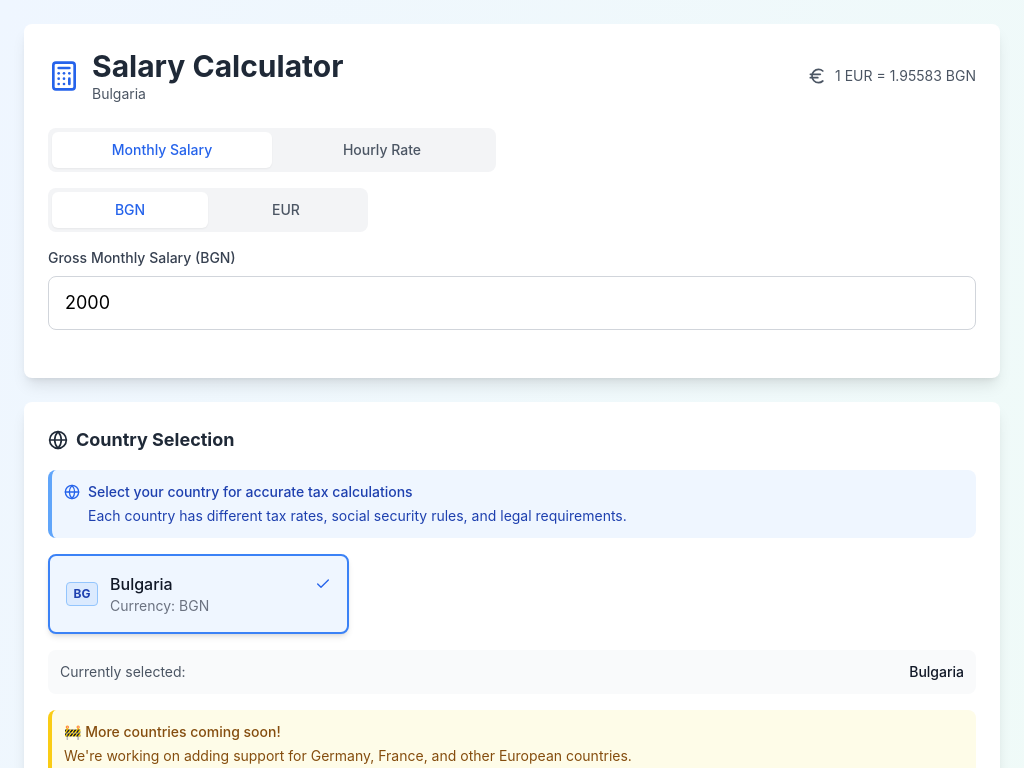
Scenario: Salary Calculator Integration Tests › Complete calculation flow validation › should handle hourly to monthly conversion correctly
The image size is (1024, 768).
# Switch to hourly mode
What coordinates should you click on to do the following:
click the button "Hourly Rate"
I would click on:
 (382, 150)
Its box is [272,132,492,168].
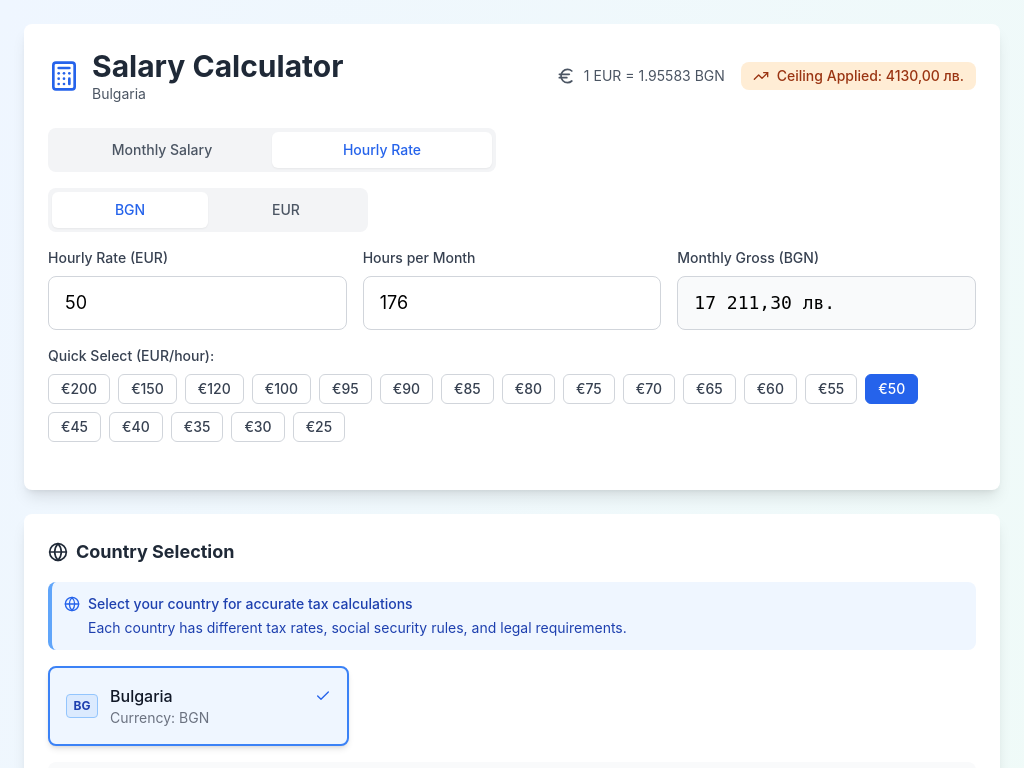
Expected: the number field showing "50" below "Hourly Rate (EUR)" is shown, [48,276,347,330]
Now the text "Monthly Gross (BGN)" is shown, box [677,249,819,266]
Now the 2nd number field showing "176" is shown, box [363,276,661,330]
